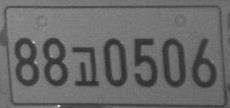0: (161, 37, 186, 87), (102, 37, 127, 86)
5: (134, 37, 158, 87)
6: (191, 38, 217, 88)
8: (13, 36, 40, 86), (42, 36, 68, 87)
고: (71, 46, 99, 86)
